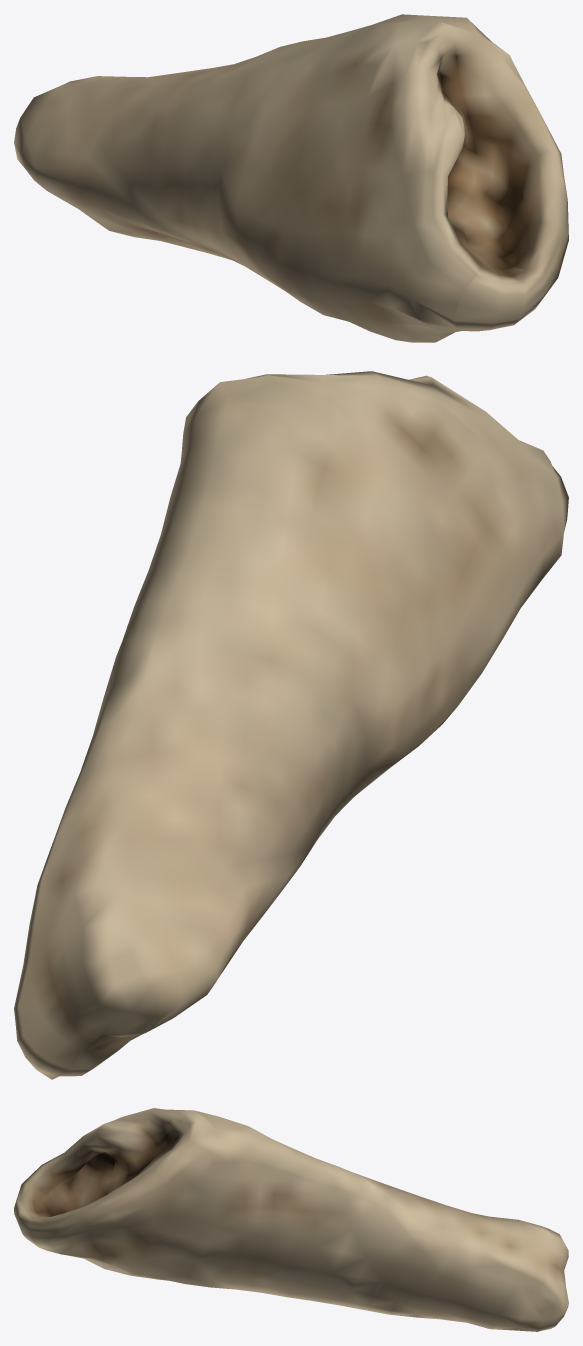
File: Lower_Incisor.glb
The picture shows the model from 3 angles, top to bottom: view 1: azimuth 30°, elevation 25°; view 2: azimuth 150°, elevation 25°; view 3: azimuth 270°, elevation 25°; orthographic projection. The views are drawn at different scales.
Visible parts, largest first — view 1: Group2668_Mesh.008; view 2: Group2668_Mesh.008; view 3: Group2668_Mesh.008.
Boxes of the visible parts, <box> form: Group2668_Mesh.008: <box>14,14,568,342</box>; Group2668_Mesh.008: <box>14,371,568,1079</box>; Group2668_Mesh.008: <box>14,1108,568,1331</box>.
Bounding box in the file's own units: 0.0126 × 0.0177 × 0.037.
Materials: 1 (1 with a texture image).
